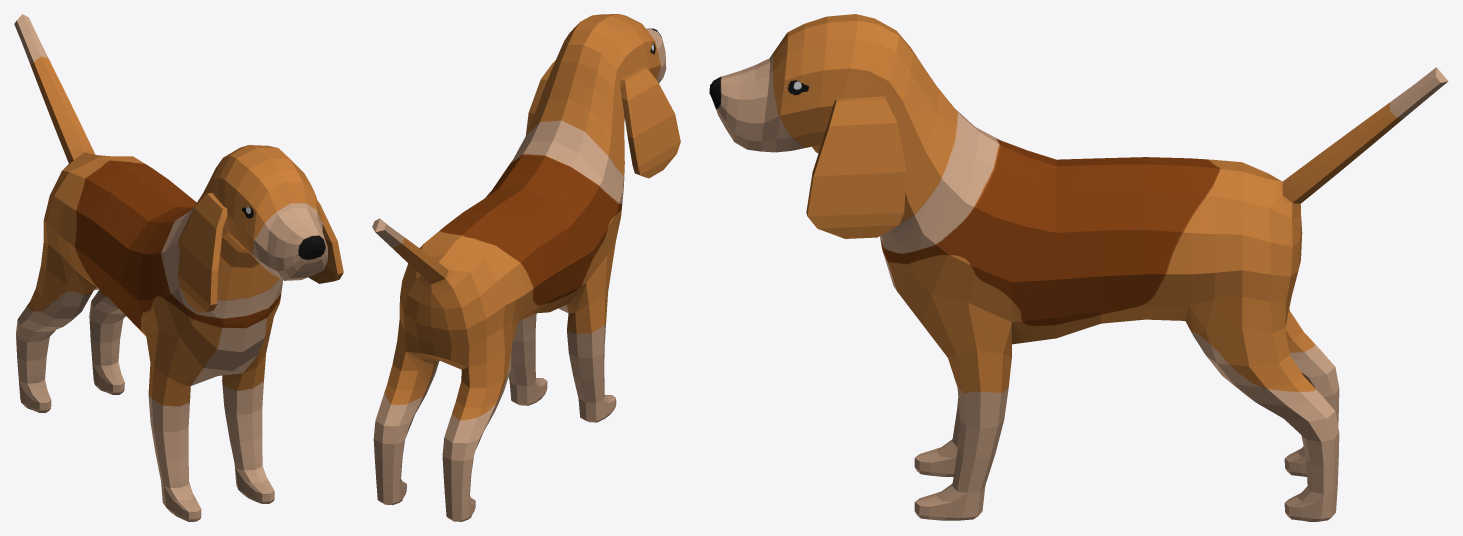
File: Cachorro.obj
The picture shows the model from 3 angles, left to right: view 1: azimuth 30°, elevation 25°; view 2: azimuth 150°, elevation 25°; view 3: azimuth 270°, elevation 25°; orthographic projection. The views are drawn at different scales.
Parts seen in each view (by area): view 1: Cachorro; view 2: Cachorro; view 3: Cachorro.
Part boxes in pixels (left/top/right/bottom): Cachorro: left=14, top=14, right=343, bottom=521; Cachorro: left=372, top=14, right=680, bottom=521; Cachorro: left=709, top=14, right=1448, bottom=521.
Size of the model in its own units: 1.14 by 3.14 by 4.45.
Materials: 1 (1 with a texture image).
